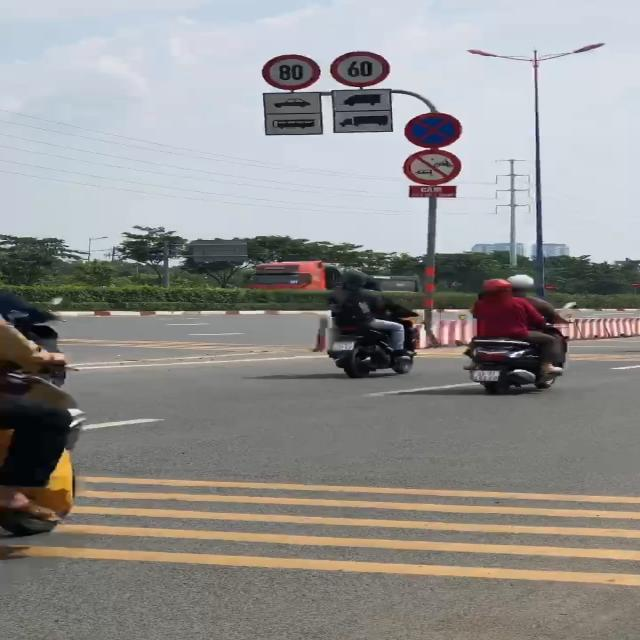Bien bao cam dung xe va do xe: (403, 111, 466, 150)
Bien bao toc do toi da cho phep: (256, 54, 326, 93), (330, 51, 397, 89)
